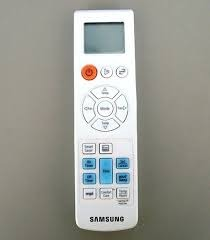remote control: (72, 9, 140, 233)
